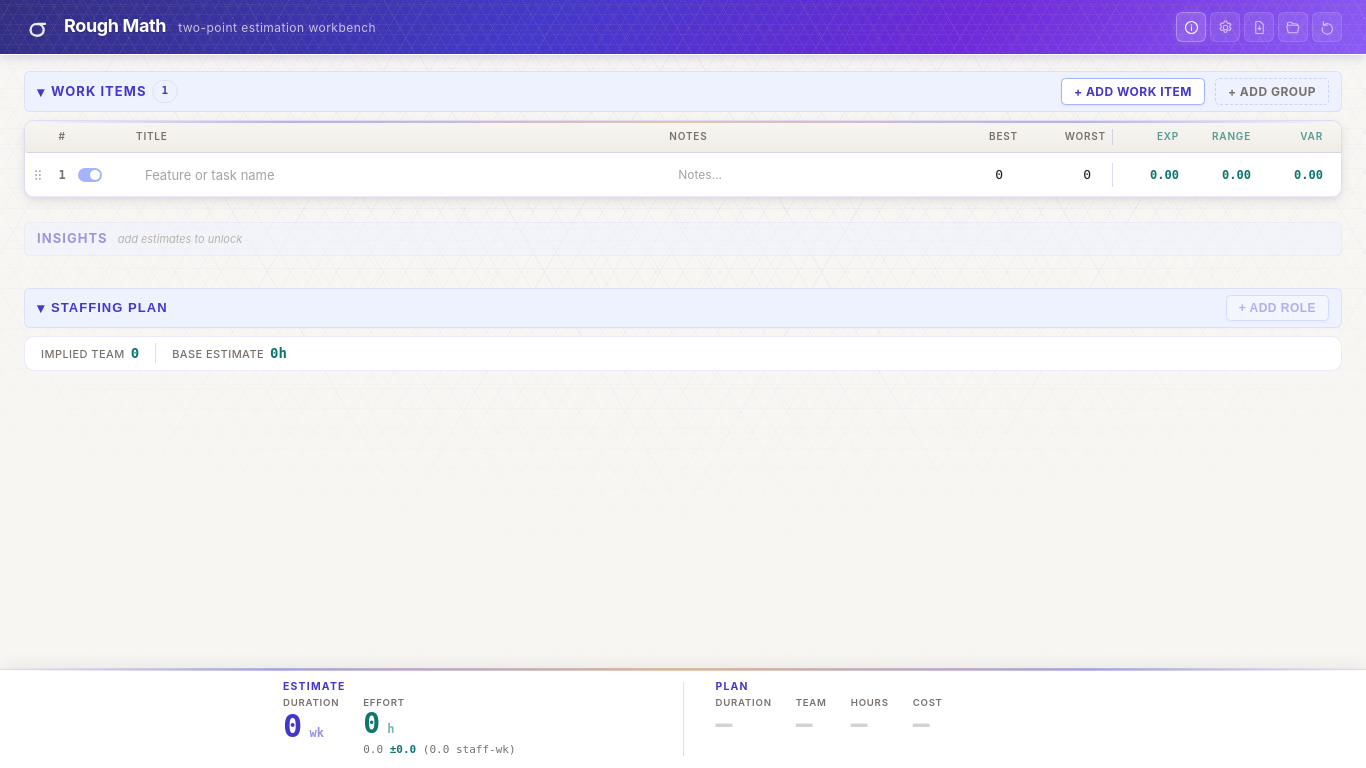
it: App - UI Integration Tests › shows warning when best case exceeds worst case
Replace the text in the number field named "Worst case hours for work item 1" with "50" at [1068, 174], box [1024,158,1112,190]
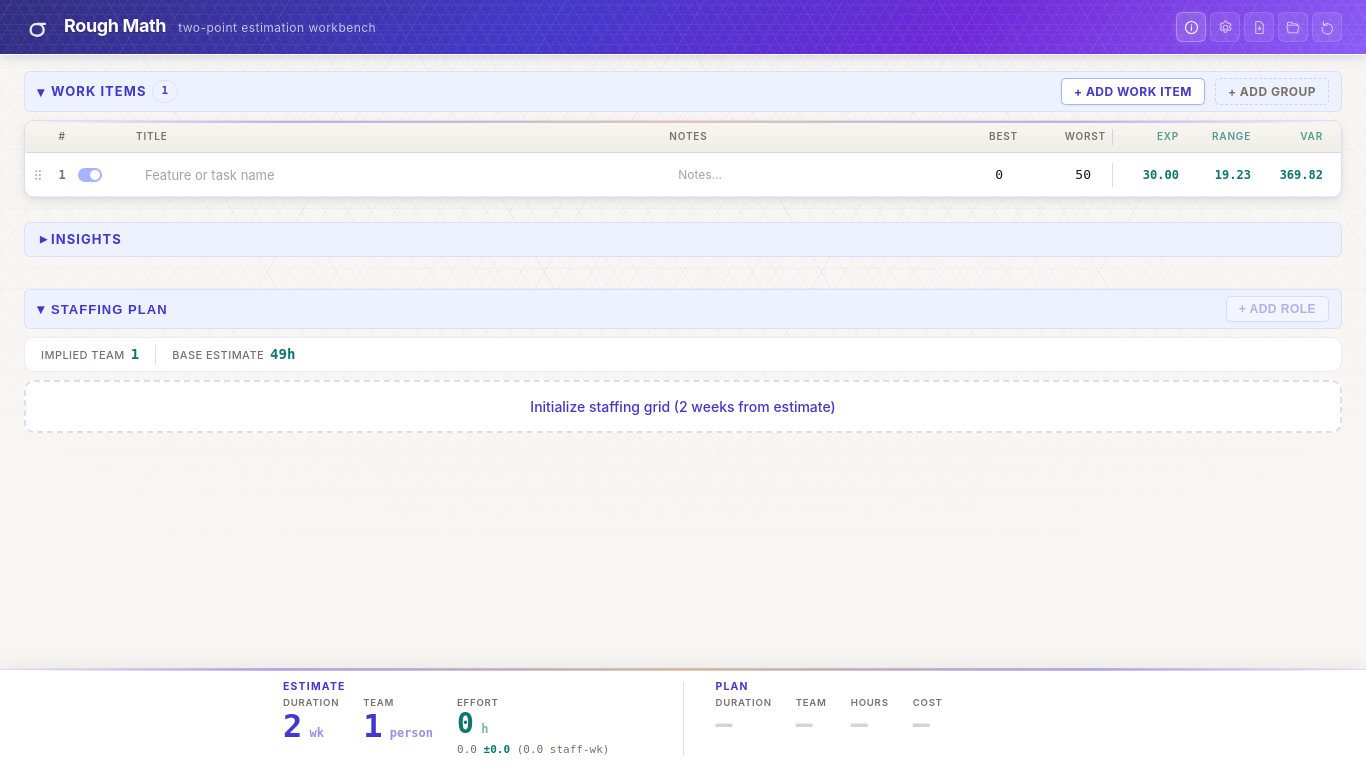
Replace the text in the number field named "Best case hours for work item 1" with "100" at [980, 174], box [936,158,1024,190]
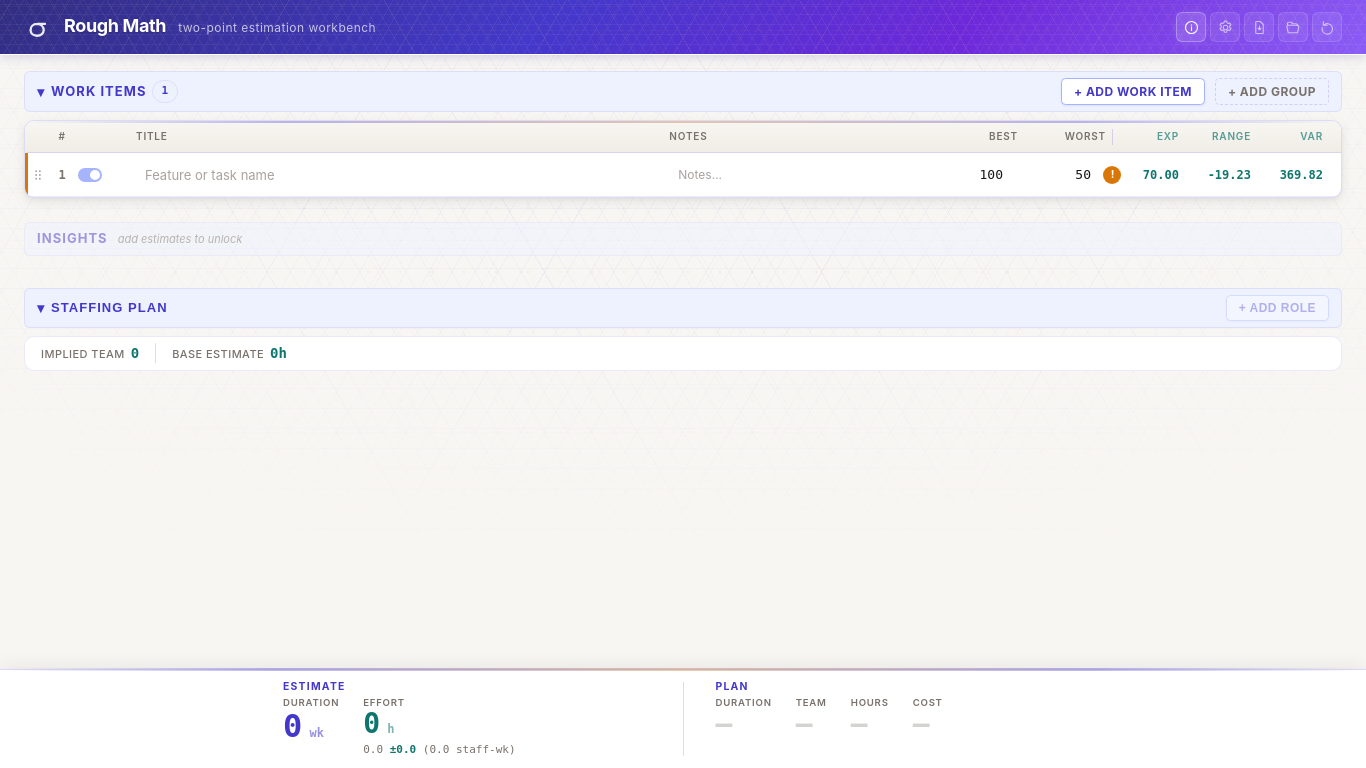
Expected: the picture named "Warning:" is shown, [1104,166,1122,184]
